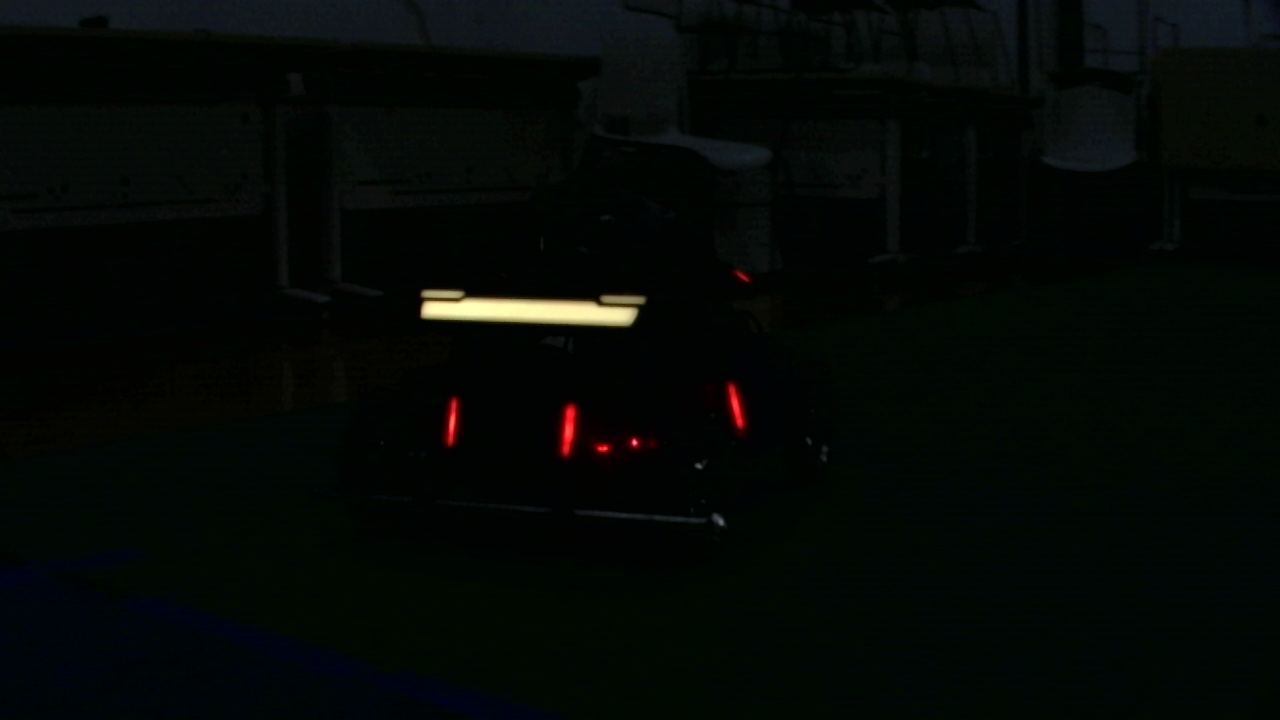lamp: (553, 393, 581, 464), (725, 377, 747, 434), (444, 394, 460, 448)
notpair1: (555, 378, 749, 463)
pair1: (447, 395, 581, 462)
